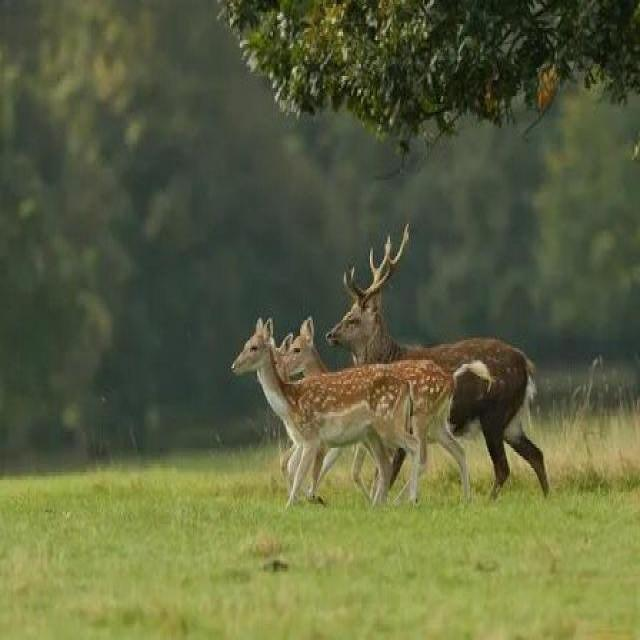deer: (218, 284, 434, 532), (320, 281, 490, 468)
